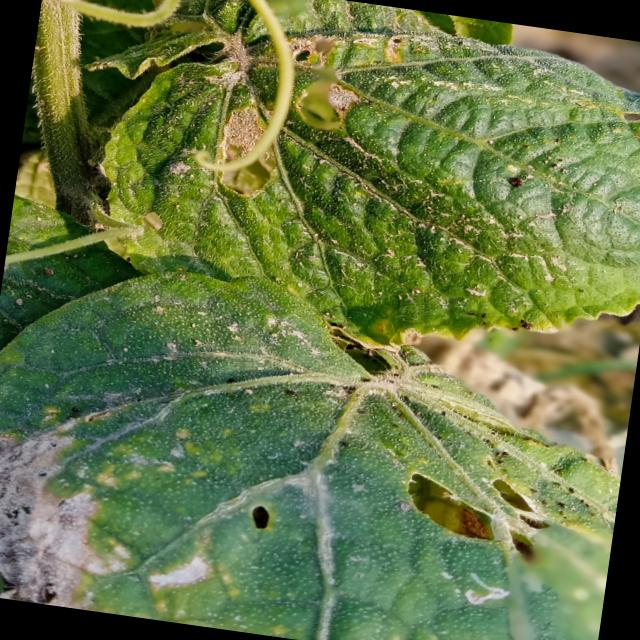cucumber_anthracnose: (73, 287, 637, 640), (254, 25, 640, 320)
